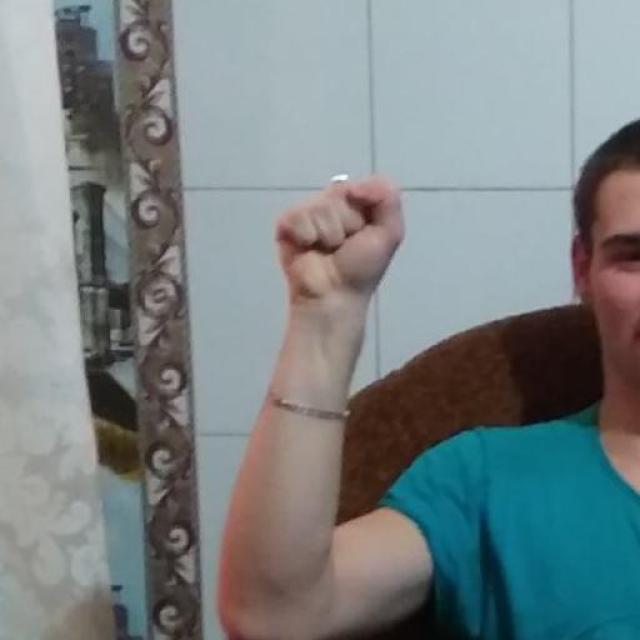hand: (269, 171, 405, 409)
